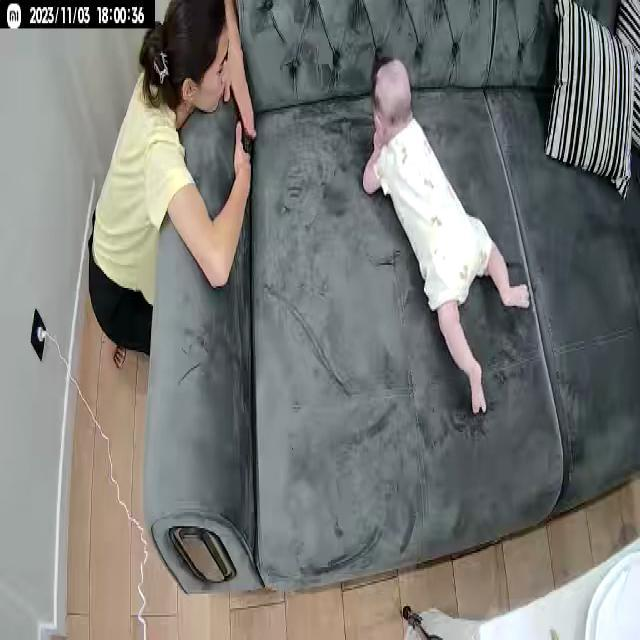baby: (361, 56, 533, 416)
